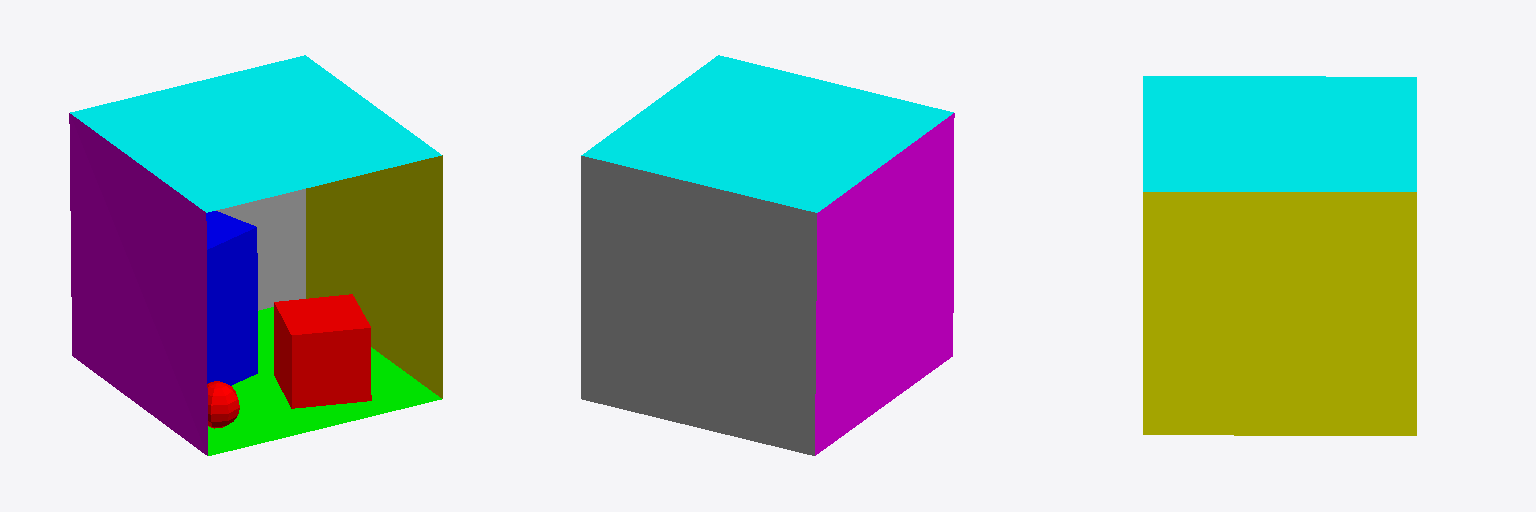
The picture shows the model from 3 angles: view 1: azimuth 30°, elevation 25°; view 2: azimuth 150°, elevation 25°; view 3: azimuth 270°, elevation 25°; orthographic projection.
Visible parts, largest first — view 1: left_wall, ceiling, right_wall, short_box, floor, tall_box, back_wall, sphere; view 2: back_wall, left_wall, ceiling; view 3: right_wall, ceiling.
Boxes of the visible parts, box(x1,y1,x2,y2) form: left_wall: box(69, 113, 207, 455); ceiling: box(70, 55, 441, 212); right_wall: box(306, 155, 442, 398); short_box: box(274, 294, 371, 408); floor: box(208, 307, 441, 455); tall_box: box(206, 211, 257, 385); back_wall: box(216, 189, 305, 310); sphere: box(207, 381, 239, 428); back_wall: box(581, 156, 816, 455); left_wall: box(815, 113, 954, 455); ceiling: box(581, 55, 953, 212); right_wall: box(1143, 192, 1416, 435); ceiling: box(1143, 76, 1416, 191).
Size of the model in its own units: 5.56 by 5.49 by 5.6.